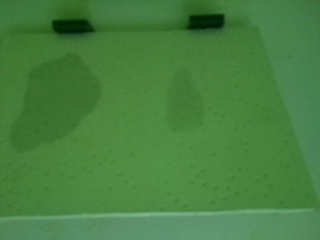Water_detected: (46, 75, 96, 135), (177, 77, 218, 133)
